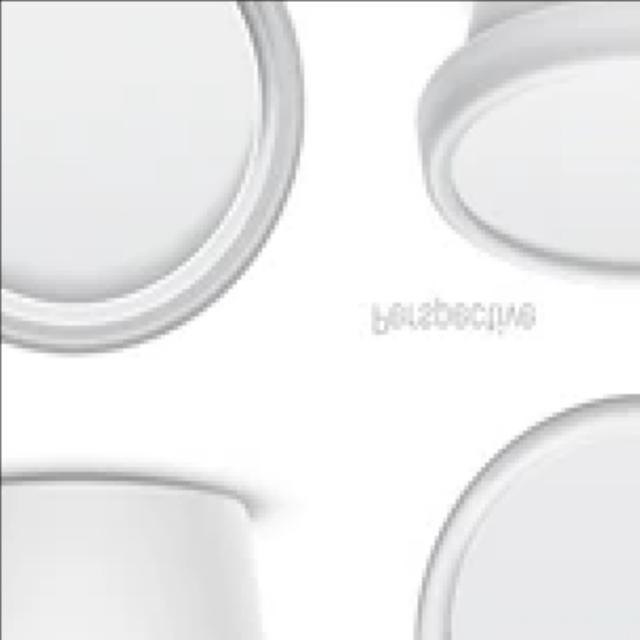yoghurt: (412, 0, 640, 293), (0, 478, 265, 640)
